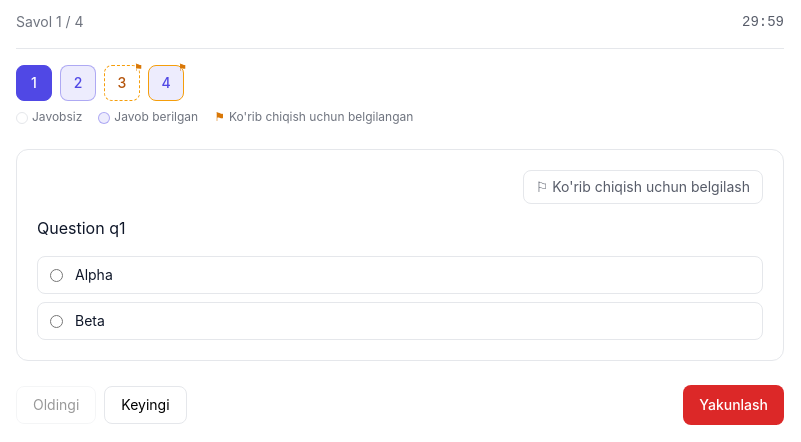
Test case: AttemptPage — Task 6 › restores the four navigation states from the server
Check: the text "Question q1" is shown, box [37,218,125,238]
Click the button "2" at [78, 83], box [60,65,96,101]
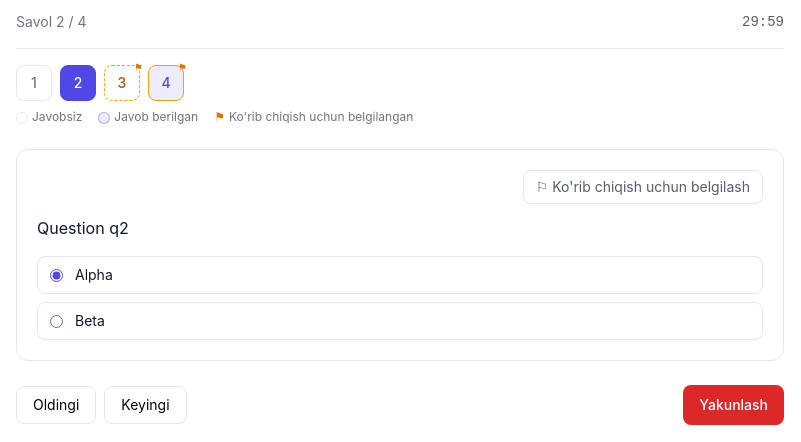
Click the button "4 ⚑" at [166, 83], box [148,65,184,101]
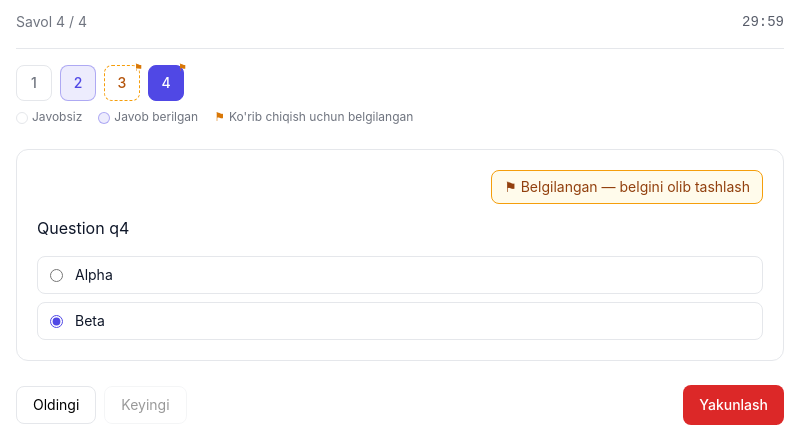
Check: the radio button labelled "Beta" is checked, box [50,314,63,328]
